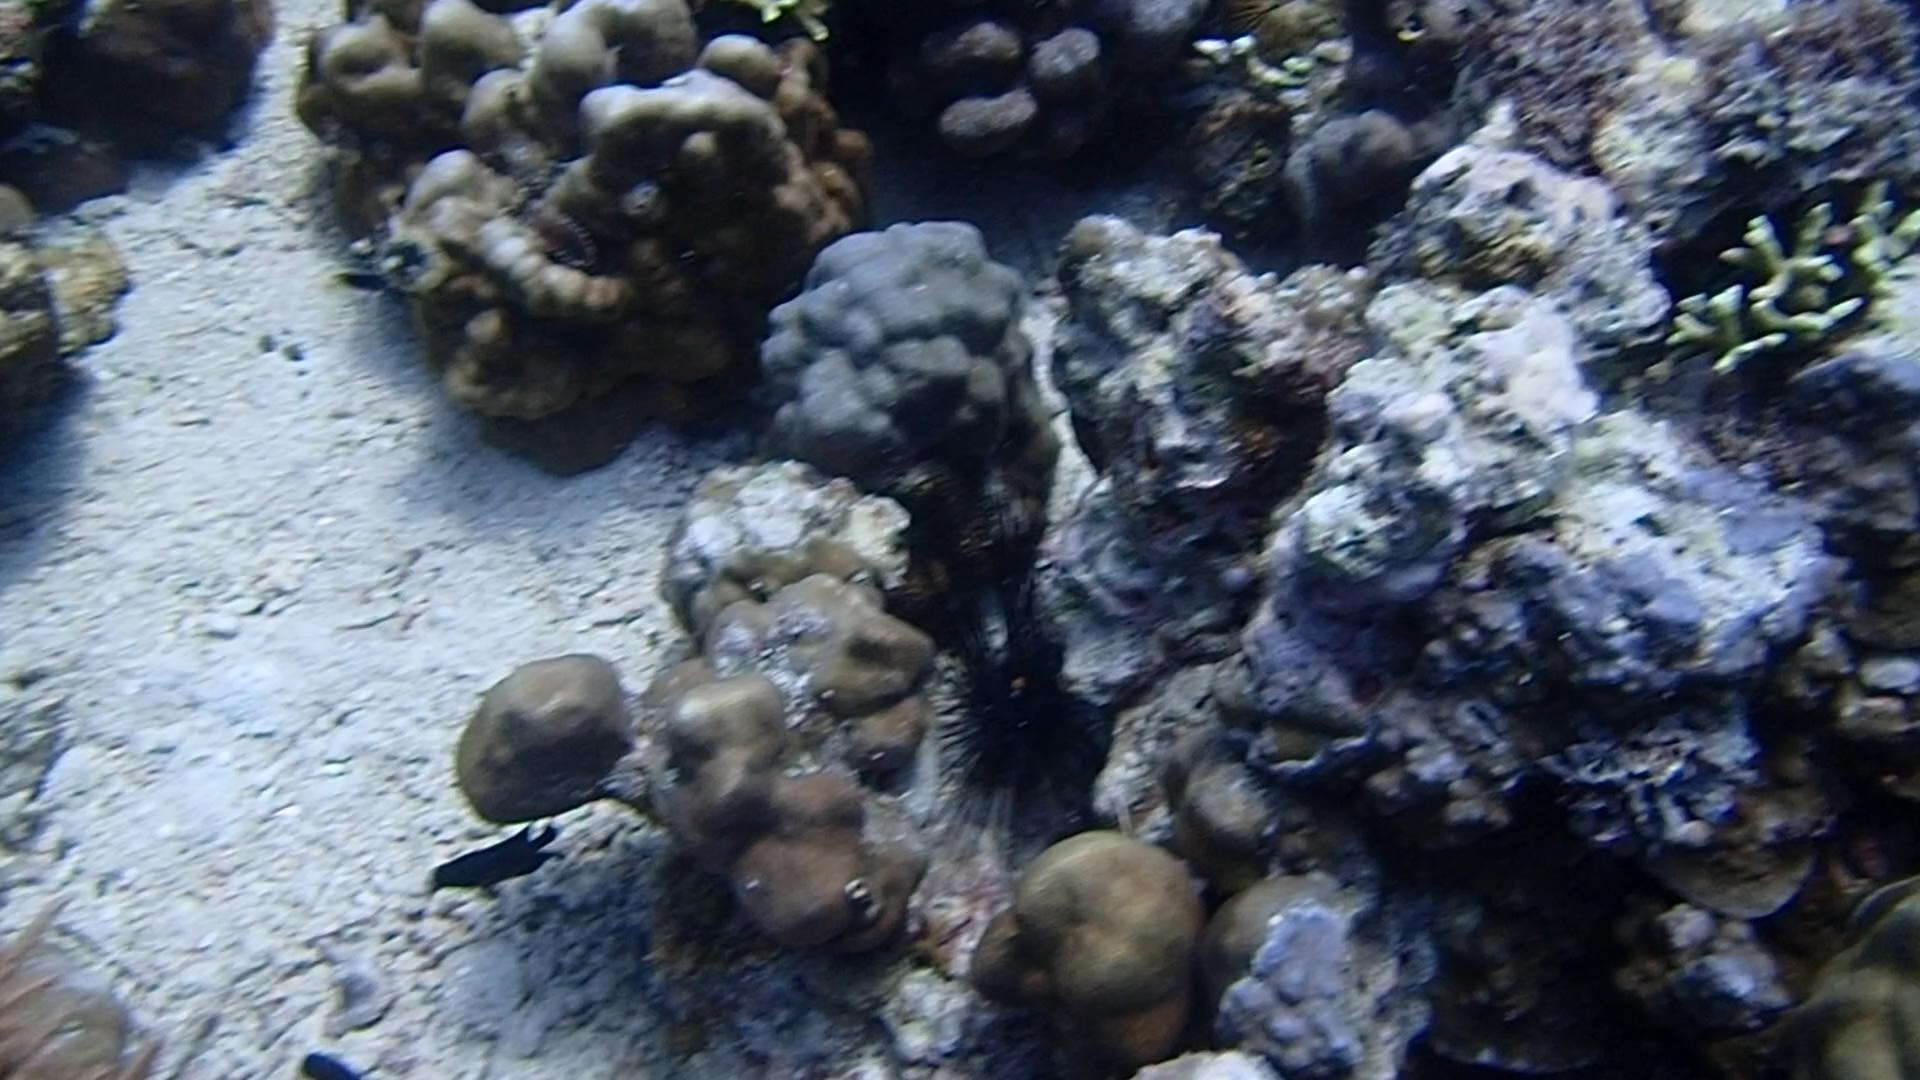Dark Fish: (407, 820, 574, 898)
Yellow Tail: (315, 257, 392, 302)
